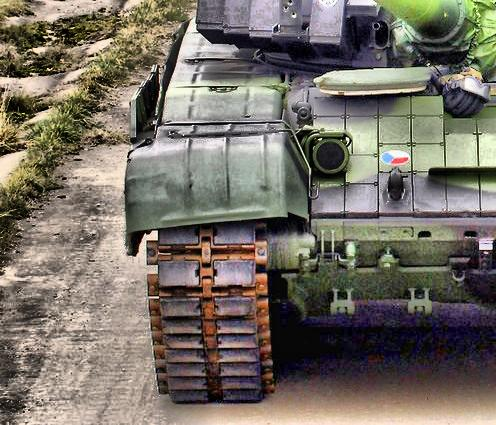tanks: (127, 1, 496, 403)
